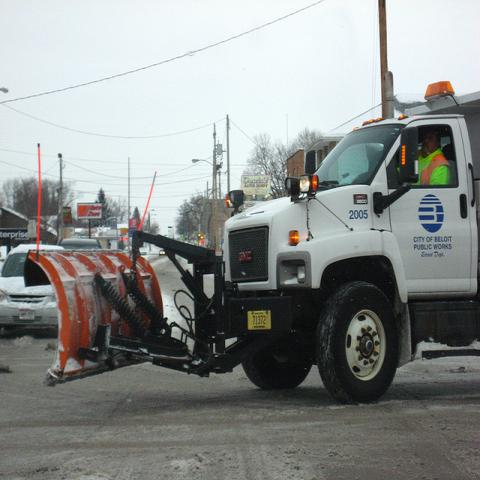car: (1, 244, 61, 336), (158, 250, 166, 257)
truck: (5, 81, 479, 394)
